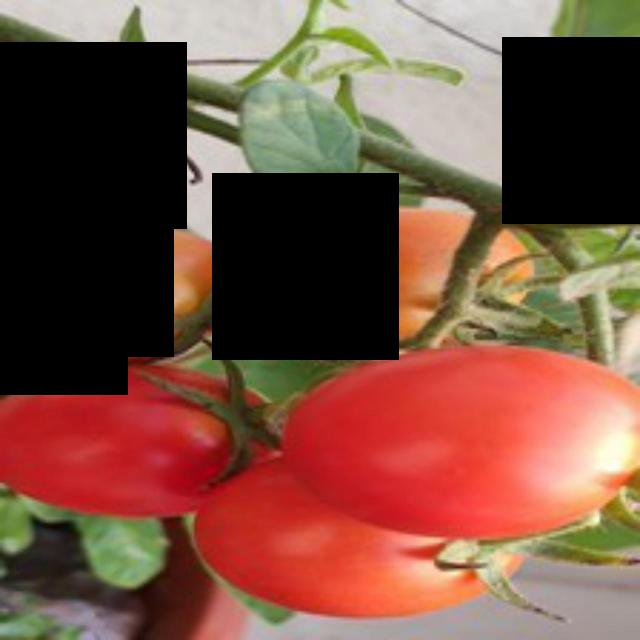tomato: (286, 334, 636, 546), (184, 428, 530, 624), (229, 191, 529, 362), (0, 362, 270, 521), (0, 217, 248, 377)
